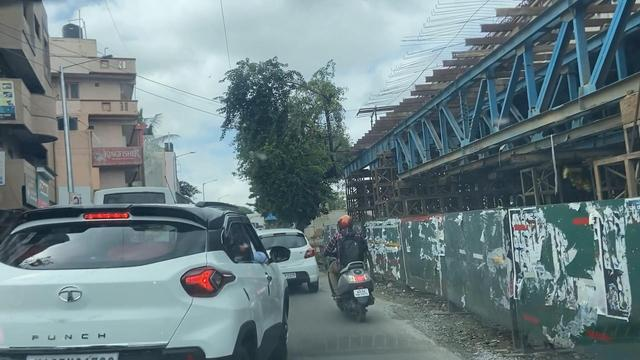LMV: (3, 221, 263, 360), (334, 218, 371, 310)
